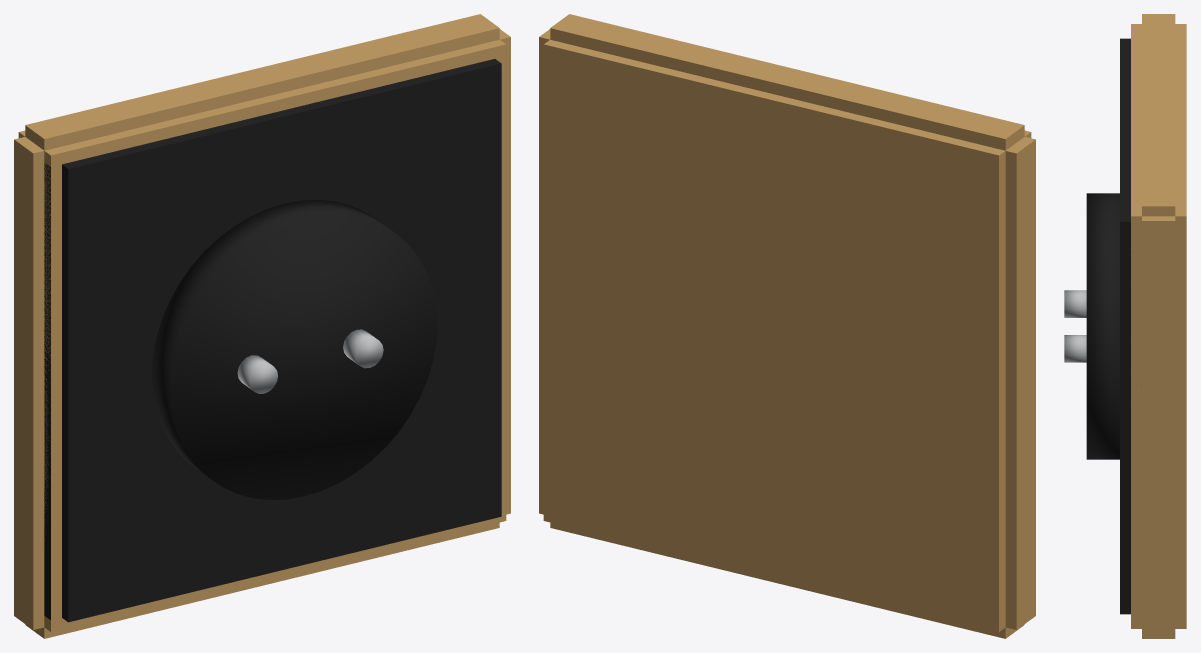
File: model-european-outlet.glb
3 renders of one model, left to right at view 1: azimuth 30°, elevation 25°; view 2: azimuth 150°, elevation 25°; view 3: azimuth 270°, elevation 25°, orthographic. The views are drawn at different scales.
Visible parts, largest first — view 1: vazra; view 2: vazra; view 3: vazra.
Boxes of the visible parts, x1,y1,x2,y2 form: vazra: (14,14,510,638); vazra: (539,14,1035,638); vazra: (1064,14,1186,638).
Bounding box in the file's own units: 0.086 × 0.086 × 0.022.
